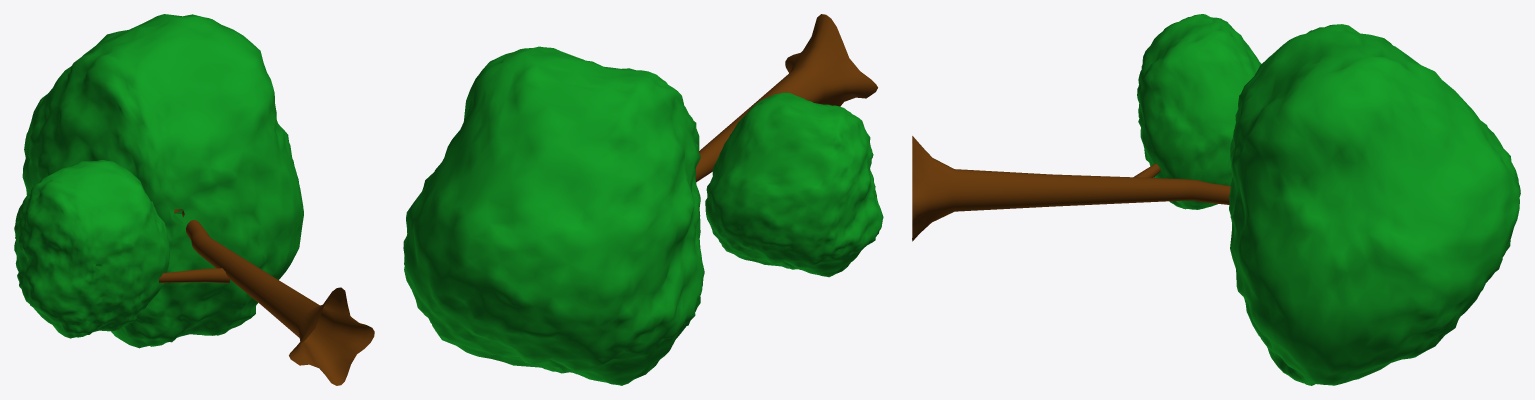
File: copac_2.fbx
3 renders of one model, left to right at view 1: azimuth 30°, elevation 25°; view 2: azimuth 150°, elevation 25°; view 3: azimuth 270°, elevation 25°, orthographic. The views are drawn at different scales.
Visible parts, largest first — view 1: tree.002; view 2: tree.002; view 3: tree.002.
Boxes of the visible parts, left/top/right/bottom form: tree.002: left=14, top=14, right=374, bottom=385; tree.002: left=403, top=14, right=883, bottom=385; tree.002: left=912, top=14, right=1520, bottom=385.
Size of the model in its own units: 562 by 488 by 840.
